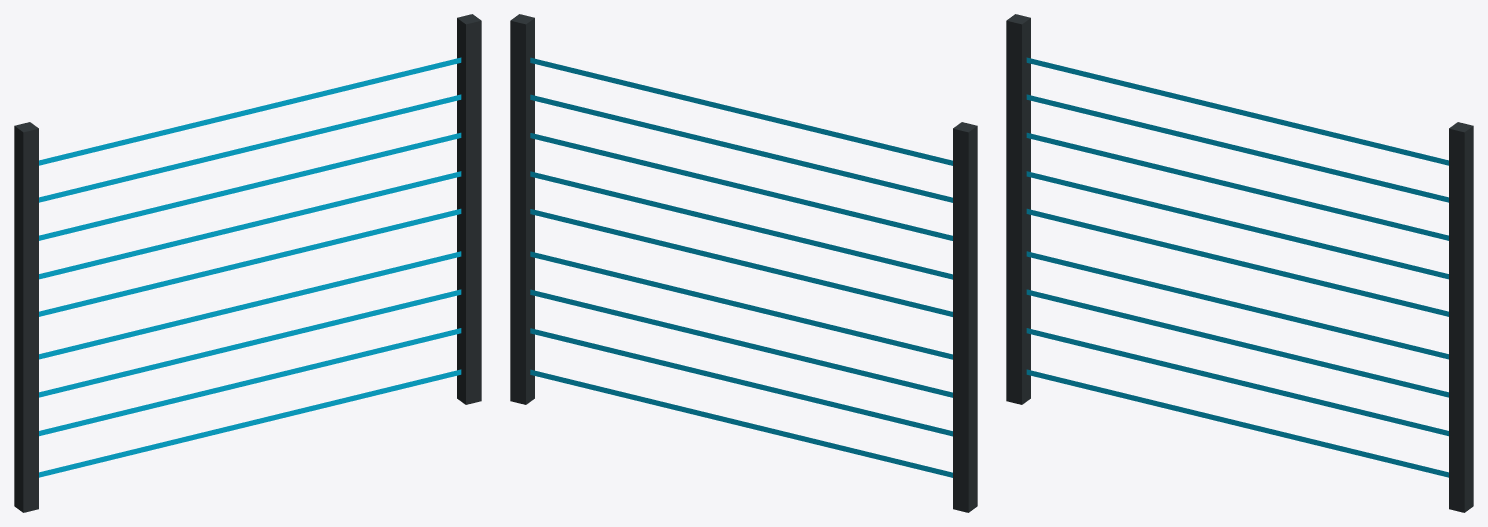
The model's file is Fence 02.FBX.
3 renders of one model, left to right at view 1: azimuth 30°, elevation 25°; view 2: azimuth 150°, elevation 25°; view 3: azimuth 330°, elevation 25°, orthographic.
Parts seen in each view (by area): view 1: Fence 02; view 2: Fence 02; view 3: Fence 02.
Part boxes in pixels (x1,y1,x2,y2): Fence 02: [14, 14, 481, 512]; Fence 02: [510, 14, 977, 512]; Fence 02: [1006, 14, 1473, 512].
Bounding box in the file's own units: 292 × 232 × 10.
